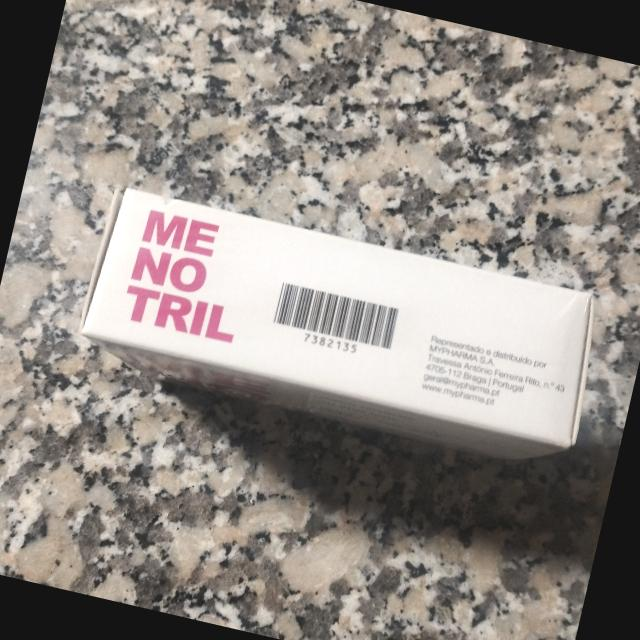caixa: (68, 178, 614, 480)
